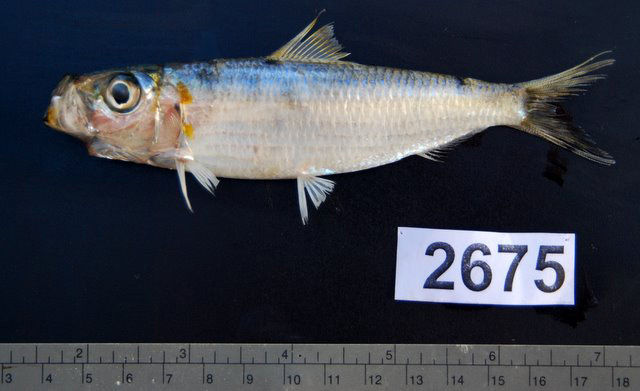fish: (41, 9, 617, 227)
